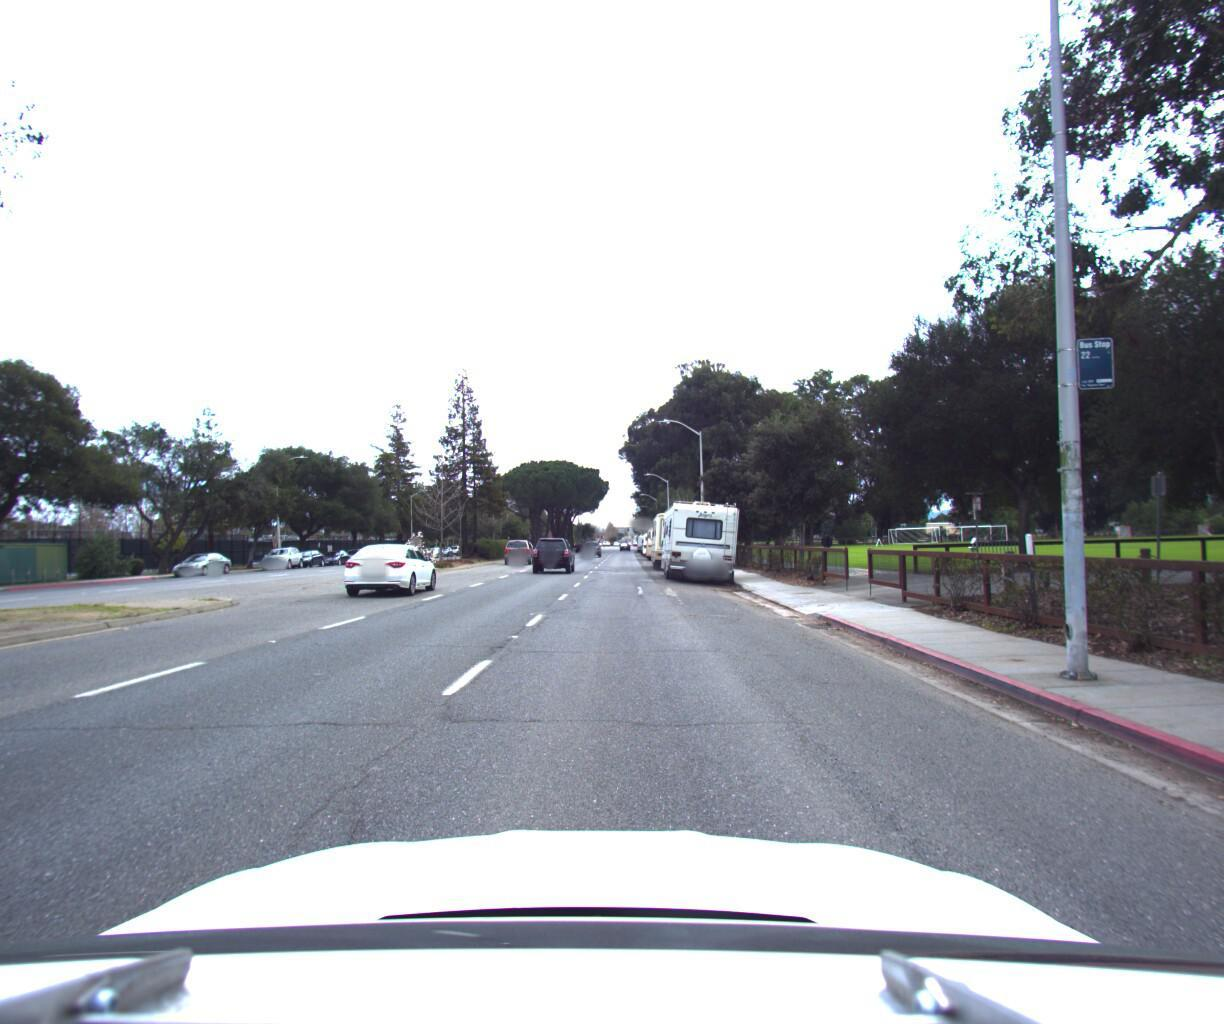car: (338, 534, 447, 592), (170, 543, 238, 573), (532, 529, 577, 567), (258, 538, 306, 564), (502, 527, 538, 554), (287, 543, 328, 563), (585, 531, 604, 548)
other_vehicle: (655, 485, 747, 581), (647, 497, 705, 568), (641, 514, 679, 555)
